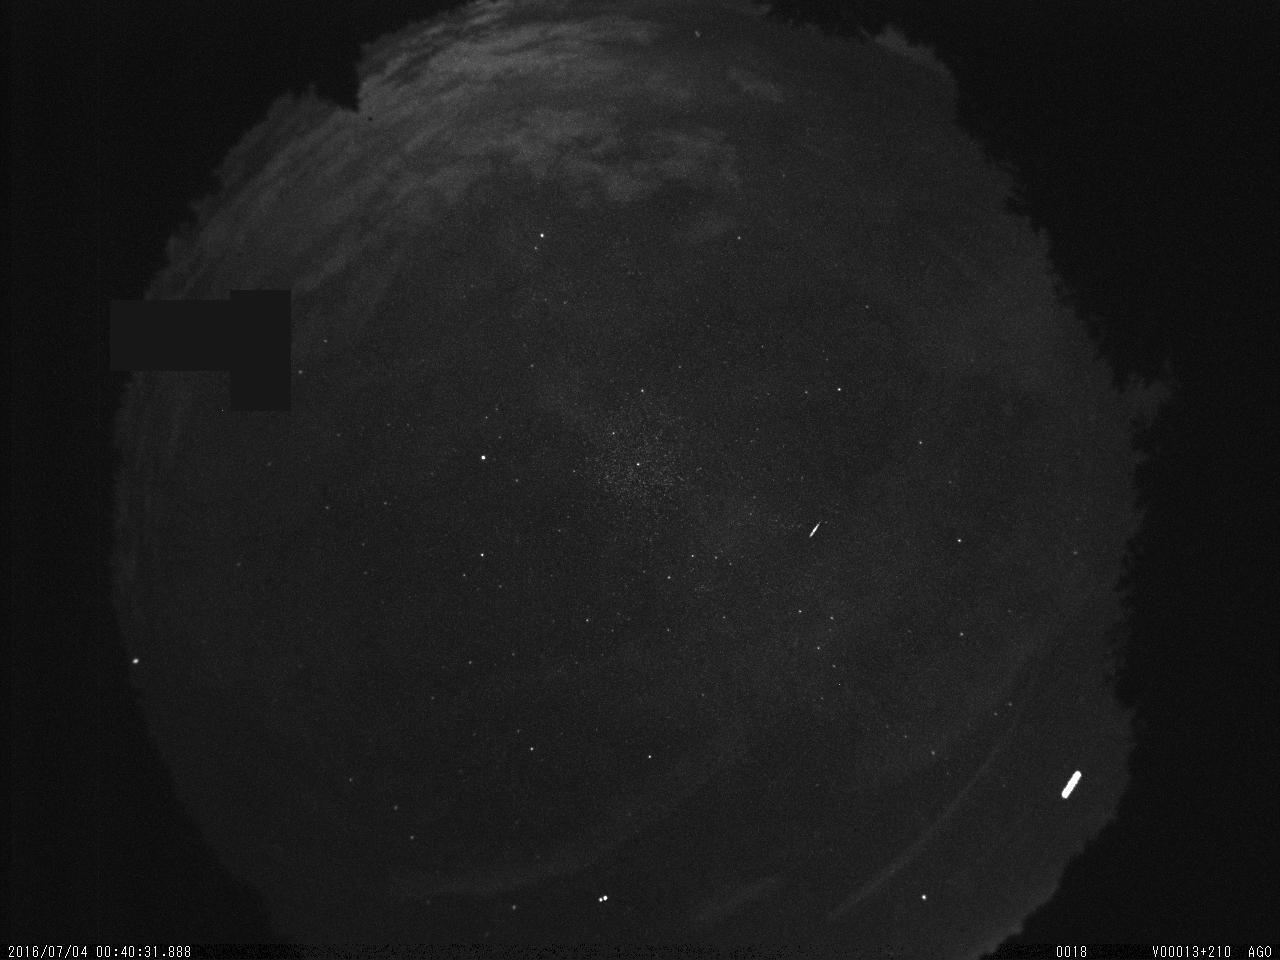meteor: (803, 514, 826, 545)
satelite: (1057, 764, 1085, 808)
